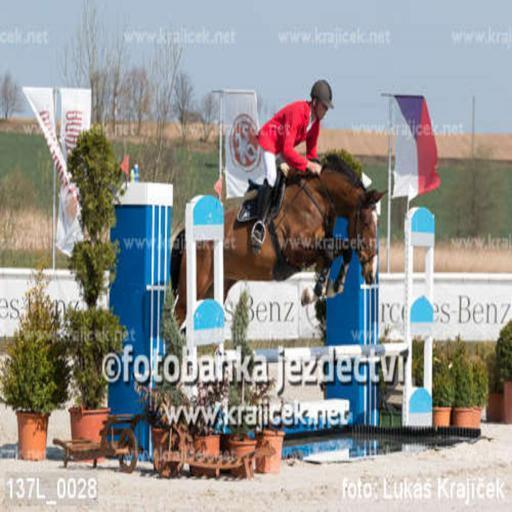horse: (168, 150, 391, 338)
